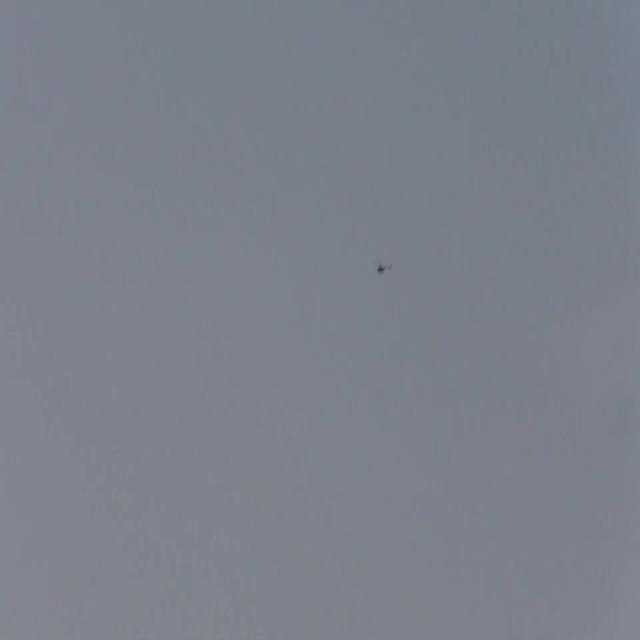CIV_HELO: (377, 261, 392, 276)
